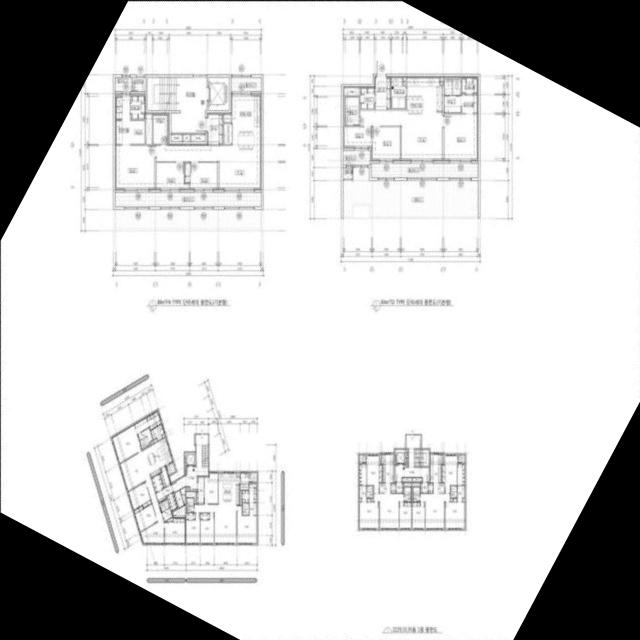background: (0, 0, 640, 640)
space_balconi: (114, 191, 261, 205), (371, 162, 478, 176), (230, 76, 261, 90), (343, 149, 369, 164), (114, 76, 131, 90), (166, 461, 175, 474), (249, 471, 256, 481)
space_bedroom: (115, 145, 154, 189), (444, 113, 478, 160), (111, 423, 141, 462), (371, 126, 399, 160), (184, 161, 217, 189), (156, 161, 189, 189), (237, 504, 256, 543), (127, 481, 151, 509), (133, 503, 156, 531), (358, 497, 378, 528), (441, 454, 457, 492), (445, 497, 464, 528), (343, 126, 371, 147), (366, 454, 381, 492), (164, 517, 185, 543), (186, 512, 199, 543), (200, 512, 213, 543), (204, 471, 217, 502), (399, 501, 411, 528), (412, 501, 424, 528), (200, 512, 209, 518), (186, 512, 194, 518)
space_dressroom: (114, 93, 130, 118), (130, 93, 145, 118), (146, 409, 161, 429), (461, 76, 478, 93), (461, 94, 477, 112), (358, 463, 366, 484), (457, 463, 464, 484), (358, 485, 366, 501), (249, 483, 256, 501), (457, 485, 464, 501), (242, 490, 248, 501)
space_elevator: (208, 76, 228, 109), (394, 449, 405, 463), (184, 452, 195, 465)
space_elevator_hall: (171, 434, 207, 491), (170, 76, 206, 132), (394, 434, 428, 480)
space_front: (374, 76, 390, 109), (207, 112, 222, 143), (360, 86, 374, 108), (155, 483, 172, 501), (151, 473, 163, 491), (166, 491, 177, 510), (196, 476, 203, 503), (420, 481, 427, 492), (396, 481, 403, 492)
space_kitchen: (230, 93, 261, 145), (406, 76, 442, 112), (142, 436, 172, 476), (218, 471, 239, 504), (430, 452, 444, 493), (379, 452, 393, 493)
space_living_room: (156, 143, 261, 189), (360, 109, 442, 159), (119, 450, 163, 543), (194, 504, 236, 543), (373, 493, 403, 528), (420, 493, 449, 528)
space_multipurpose_space: (391, 76, 405, 107)
space_other: (159, 465, 170, 487), (150, 423, 164, 440), (145, 112, 151, 143), (223, 122, 231, 143), (240, 471, 249, 489), (174, 489, 183, 507), (173, 504, 185, 515), (343, 86, 359, 94), (186, 490, 195, 502), (190, 133, 205, 140), (180, 486, 185, 503), (170, 134, 181, 140), (223, 112, 230, 121), (390, 482, 395, 492), (149, 437, 157, 443), (182, 134, 189, 140), (428, 482, 432, 492), (165, 516, 172, 520), (402, 477, 411, 480), (412, 477, 421, 480), (440, 76, 443, 84), (403, 482, 411, 485), (412, 482, 419, 485), (442, 454, 444, 463), (161, 433, 165, 437), (184, 466, 186, 474), (406, 457, 408, 465), (403, 76, 405, 84), (236, 471, 239, 476), (406, 449, 408, 456), (240, 490, 241, 504), (185, 486, 189, 489), (358, 497, 361, 500), (379, 454, 380, 463), (371, 497, 373, 500), (462, 497, 464, 500), (450, 497, 452, 500)
space_outdoor_room: (132, 76, 145, 90), (343, 166, 352, 178), (358, 454, 365, 462), (458, 454, 464, 462)
space_staircase: (147, 76, 180, 109), (413, 449, 428, 465), (201, 444, 207, 466)
space_toilet: (114, 120, 144, 143), (153, 114, 166, 143), (345, 96, 358, 124), (137, 427, 152, 448), (444, 94, 460, 111), (134, 416, 148, 433), (161, 507, 172, 520), (452, 78, 460, 94), (444, 78, 452, 94), (403, 486, 411, 500), (412, 486, 419, 500), (186, 497, 193, 511), (249, 502, 256, 514), (159, 500, 165, 511), (163, 498, 169, 509), (366, 491, 373, 497), (450, 485, 457, 491), (242, 502, 248, 508), (242, 508, 248, 514), (366, 485, 373, 490), (450, 491, 457, 496)
